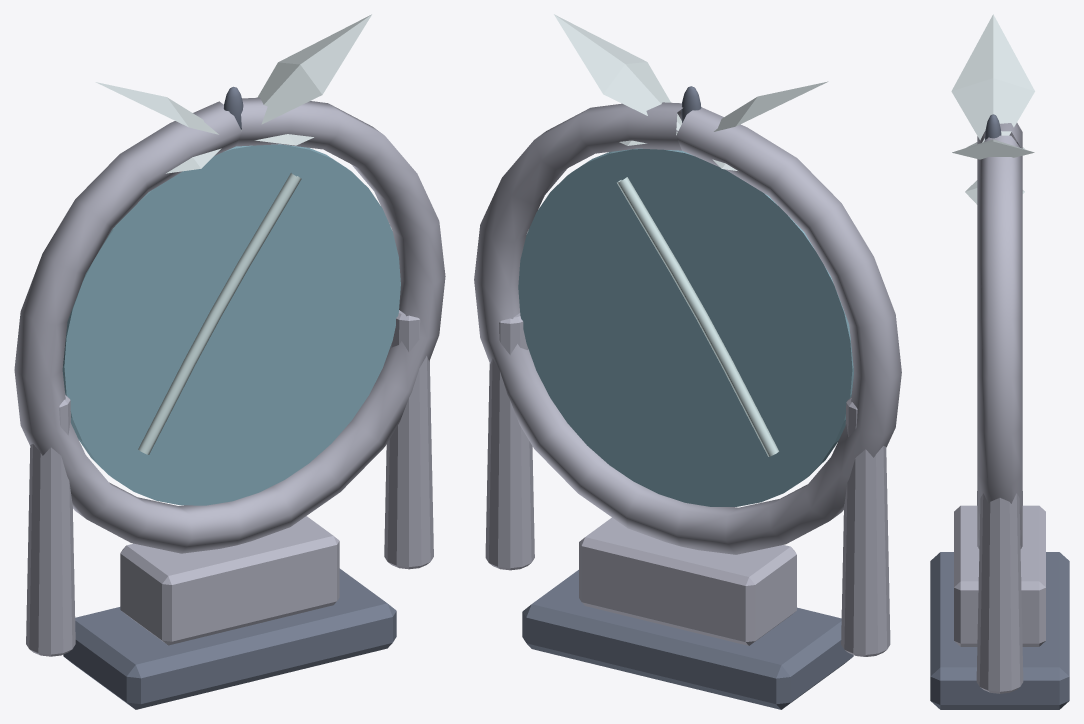
File: moon_mirror.glb
3 renders of one model, left to right at view 1: azimuth 30°, elevation 25°; view 2: azimuth 150°, elevation 25°; view 3: azimuth 270°, elevation 25°, orthographic. The views are drawn at different scales.
Parts seen in each view (by area): view 1: Pigment_b7b8c7, Pigment_91b9c9, Pigment_747d90, Pigment_d4dee1, Pigment_d2e6e8; view 2: Pigment_b7b8c7, Pigment_91b9c9, Pigment_747d90, Pigment_d4dee1, Pigment_d2e6e8; view 3: Pigment_b7b8c7, Pigment_747d90, Pigment_d4dee1.
Part boxes in pixels (left/top/right/bottom): Pigment_b7b8c7: left=14, top=97, right=445, bottom=656; Pigment_91b9c9: left=62, top=144, right=400, bottom=505; Pigment_747d90: left=63, top=86, right=396, bottom=709; Pigment_d4dee1: left=95, top=14, right=371, bottom=173; Pigment_d2e6e8: left=138, top=173, right=301, bottom=454; Pigment_b7b8c7: left=474, top=102, right=901, bottom=656; Pigment_91b9c9: left=518, top=148, right=853, bottom=506; Pigment_747d90: left=522, top=86, right=853, bottom=709; Pigment_d4dee1: left=554, top=14, right=828, bottom=170; Pigment_d2e6e8: left=617, top=177, right=778, bottom=456; Pigment_b7b8c7: left=954, top=123, right=1045, bottom=693; Pigment_747d90: left=930, top=114, right=1069, bottom=709; Pigment_d4dee1: left=951, top=14, right=1034, bottom=204.
Size of the model in its own units: 2.71 by 3.78 by 0.83.
